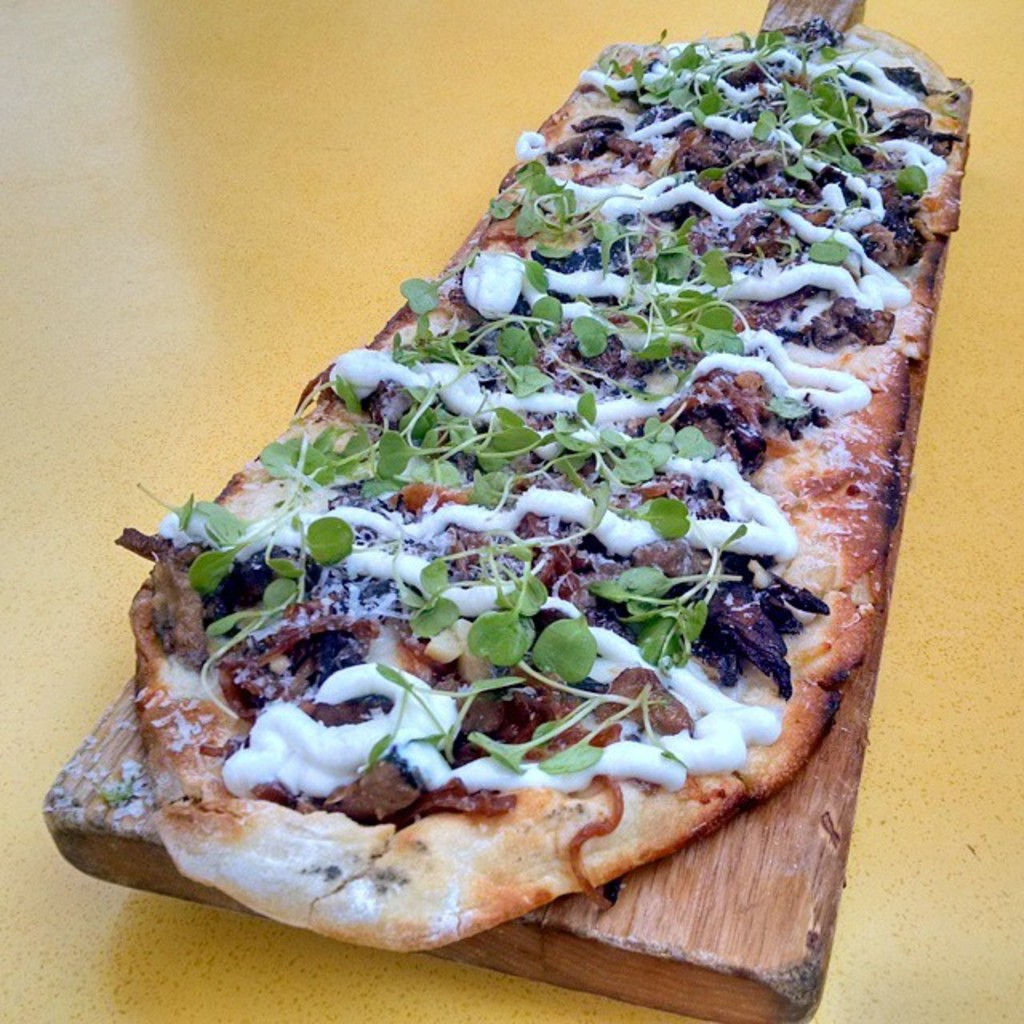Pizza: (22, 89, 969, 924)
